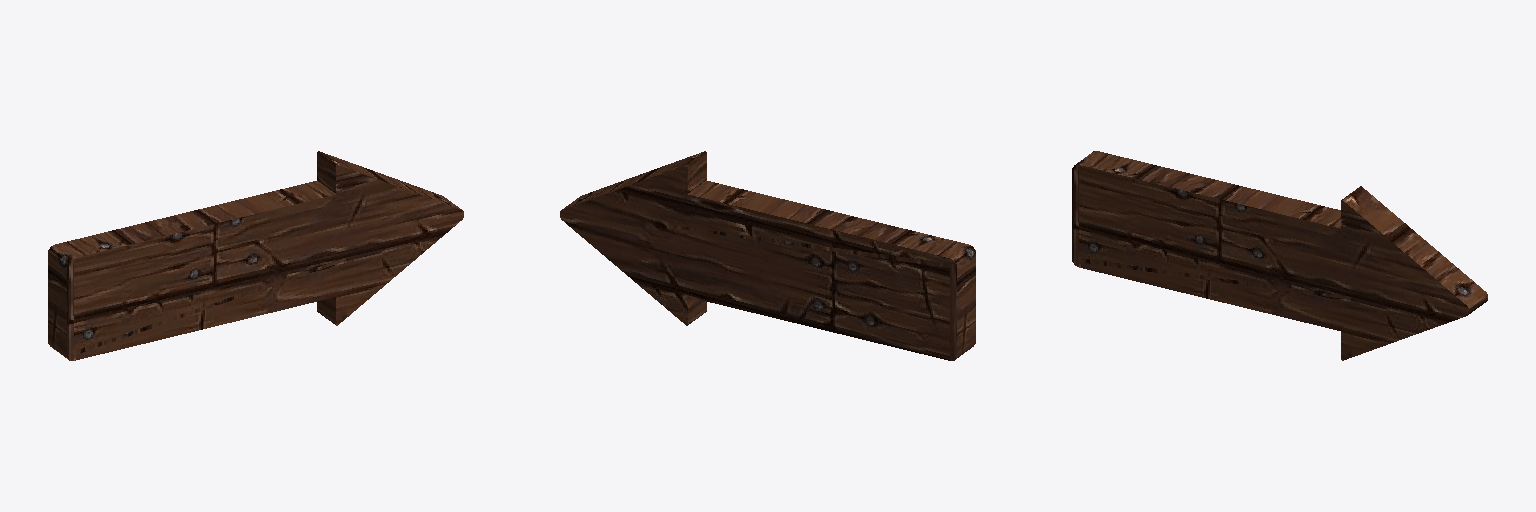
The picture shows the model from 3 angles: view 1: azimuth 30°, elevation 25°; view 2: azimuth 150°, elevation 25°; view 3: azimuth 330°, elevation 25°; orthographic projection.
Visible parts, largest first — view 1: Arrow5; view 2: Arrow5; view 3: Arrow5.
Part boxes in pixels (x1,y1,x2,y2): Arrow5: (48,151,463,360); Arrow5: (560,151,975,360); Arrow5: (1072,151,1487,360).
Bounding box in the file's own units: 10.75 × 4.17 × 0.8871.
1 materials, 1 textured.